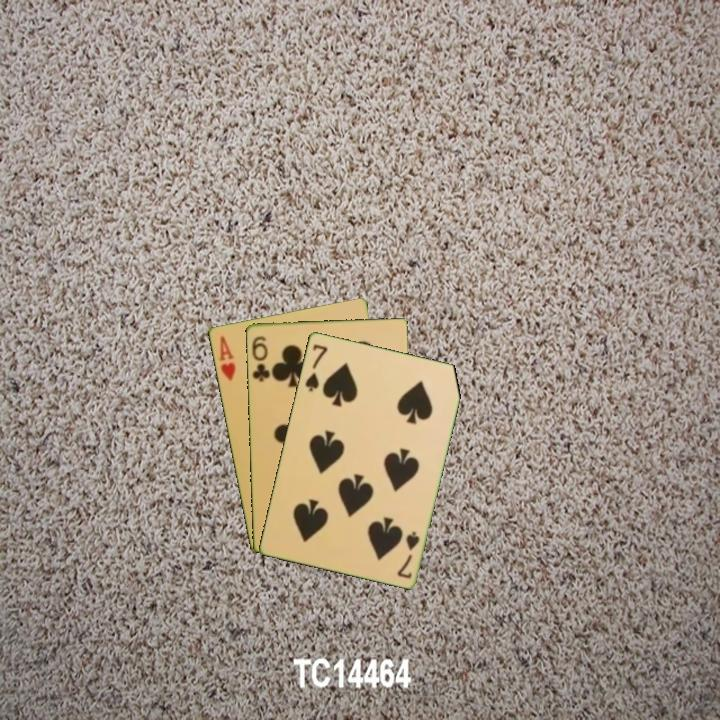6c: (248, 332, 272, 384)
7s: (301, 340, 330, 394), (393, 527, 422, 581)
Ah: (215, 332, 238, 383)
